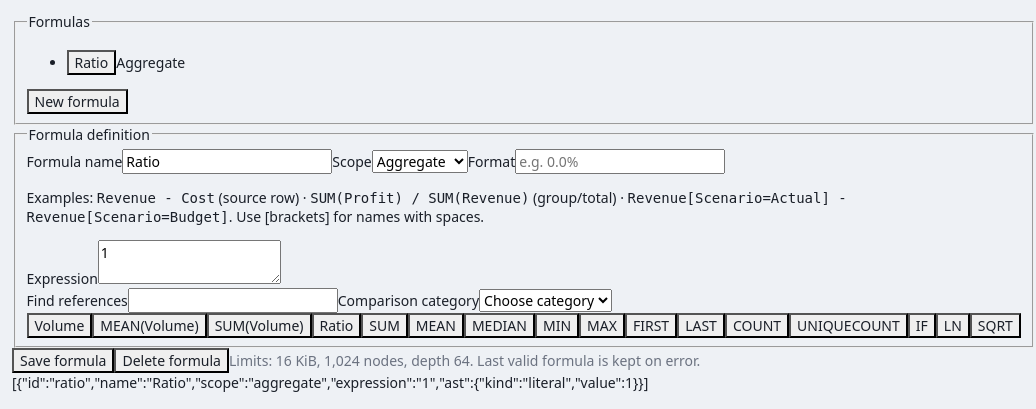
deletes only an unreferenced saved formula through a validated commit
The width and height of the screenshot is (1036, 409).
Click the button "Delete formula" at (172, 361), box [114,348,229,373]
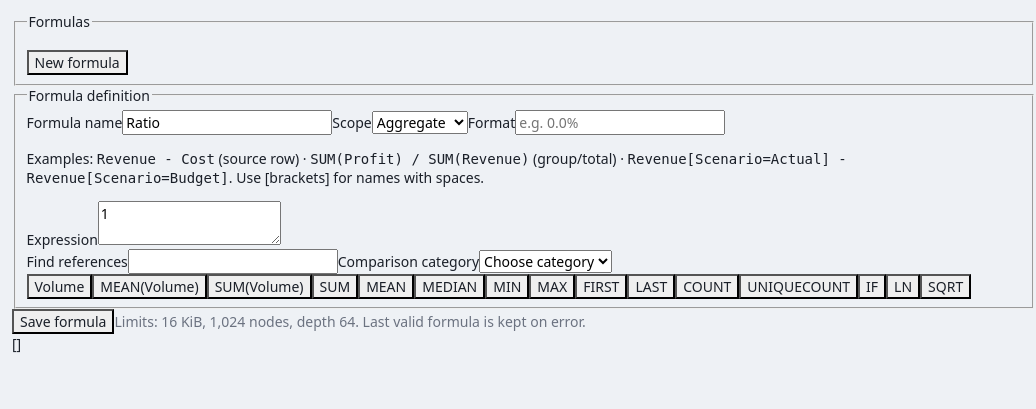
expect the text named "Saved model" reads "[]": met, box [12,334,21,353]
expect the button "Delete formula" is gone: met
